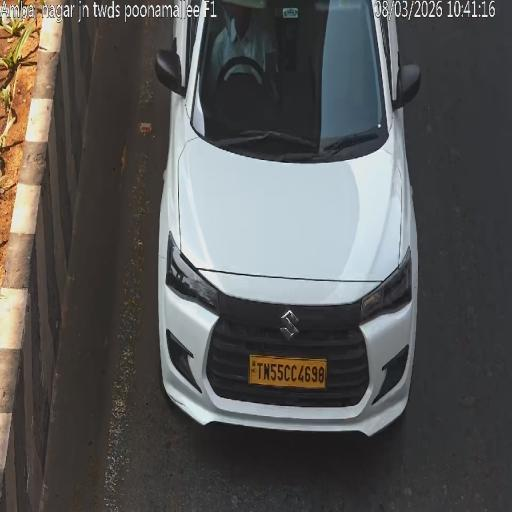person_with_seatbelt: (224, 12, 259, 76)
